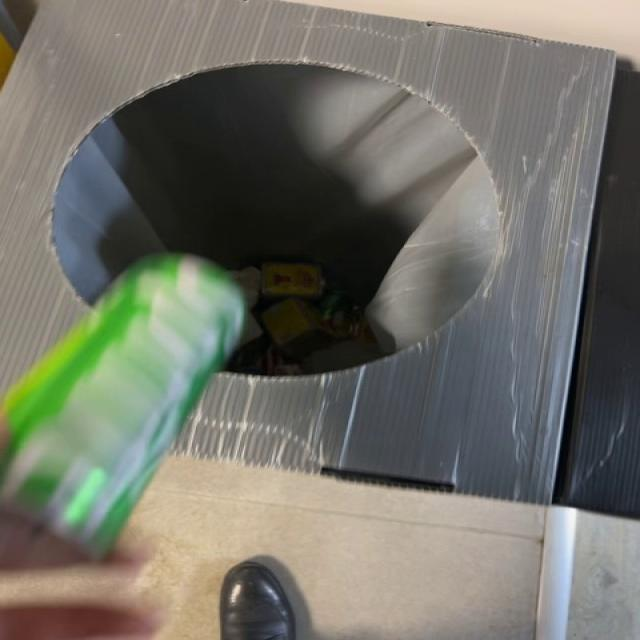bin: (1, 0, 616, 504)
metal: (1, 255, 244, 558)
